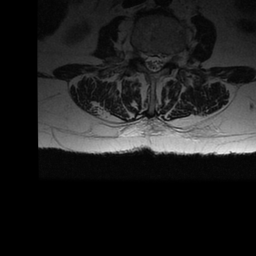CCS_normal: (150, 47, 157, 77)
LFS_normal: (165, 46, 171, 66)
LLS_normal: (158, 48, 164, 73)
RFS_stenosis: (138, 44, 145, 64)
RLS_normal: (145, 48, 151, 72)
